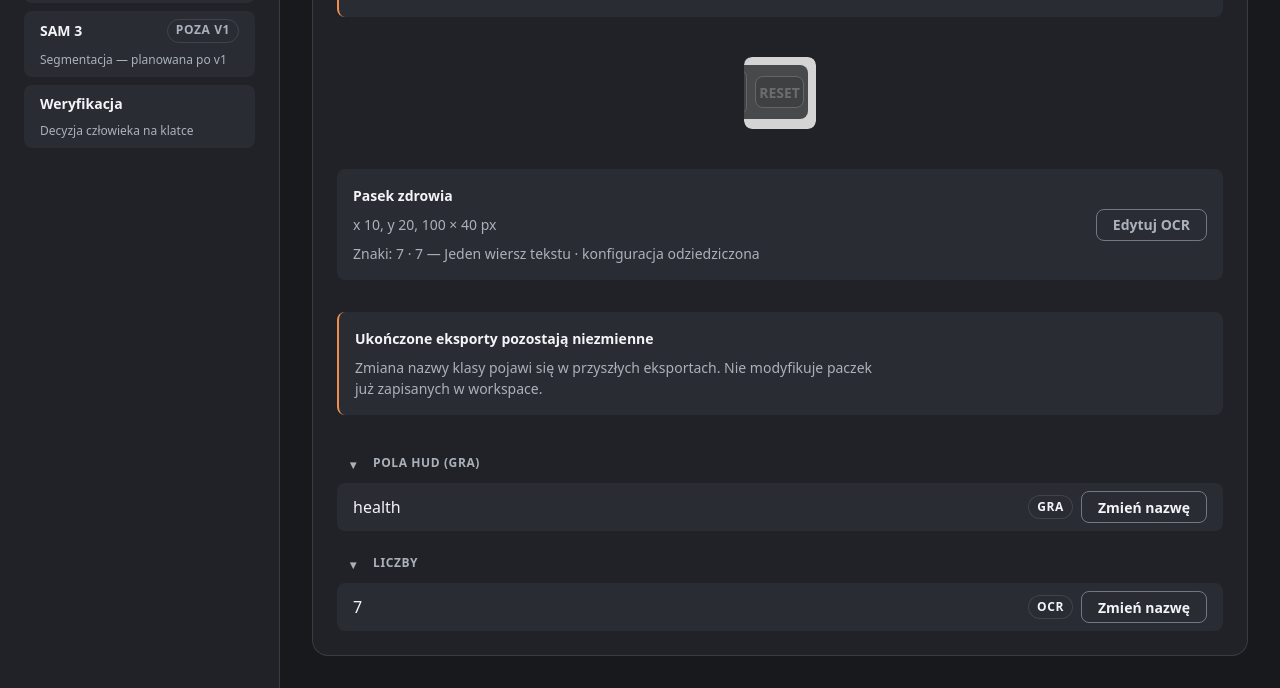
profile collection and explicit selection › keeps the editor open and explains a backend category-name conflict
(page scrolled)
Click the button with aria-label "Zmień nazwę klasy 7" at (1144, 607), box [1081, 591, 1207, 623]
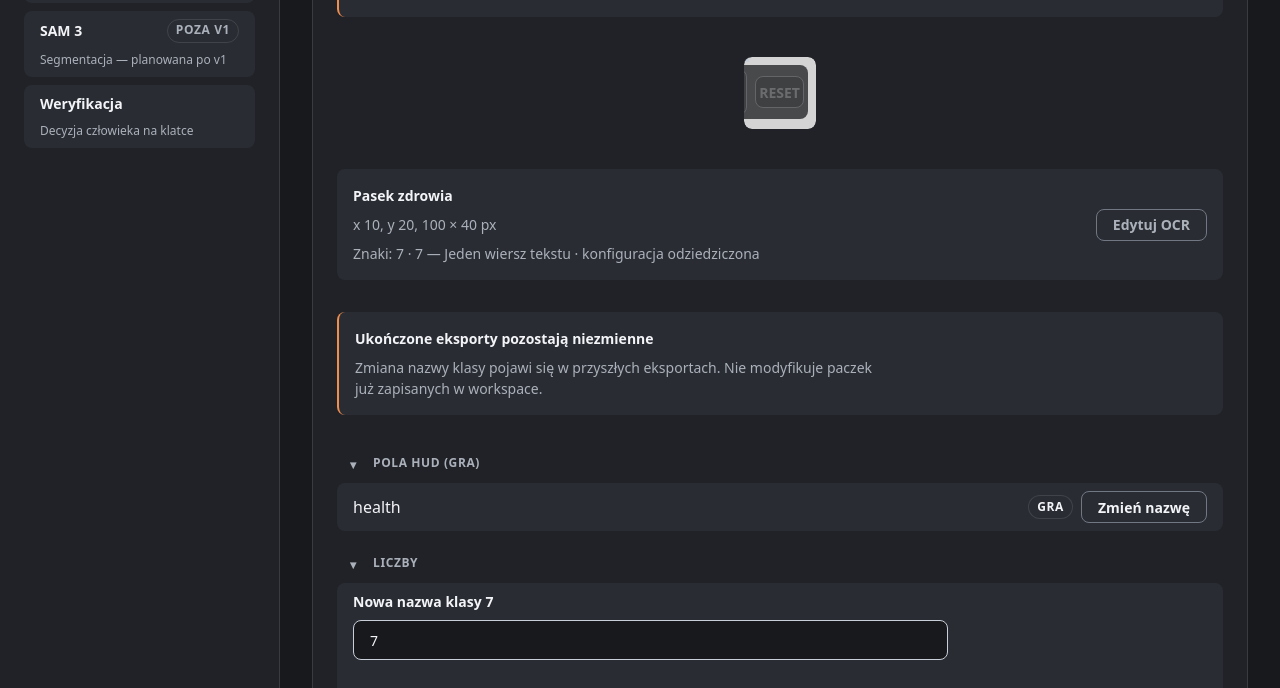
Replace the text in the field labelled "Nowa nazwa klasy 7" with "HEALTH" at (650, 640), box [353, 620, 948, 660]
(page scrolled)
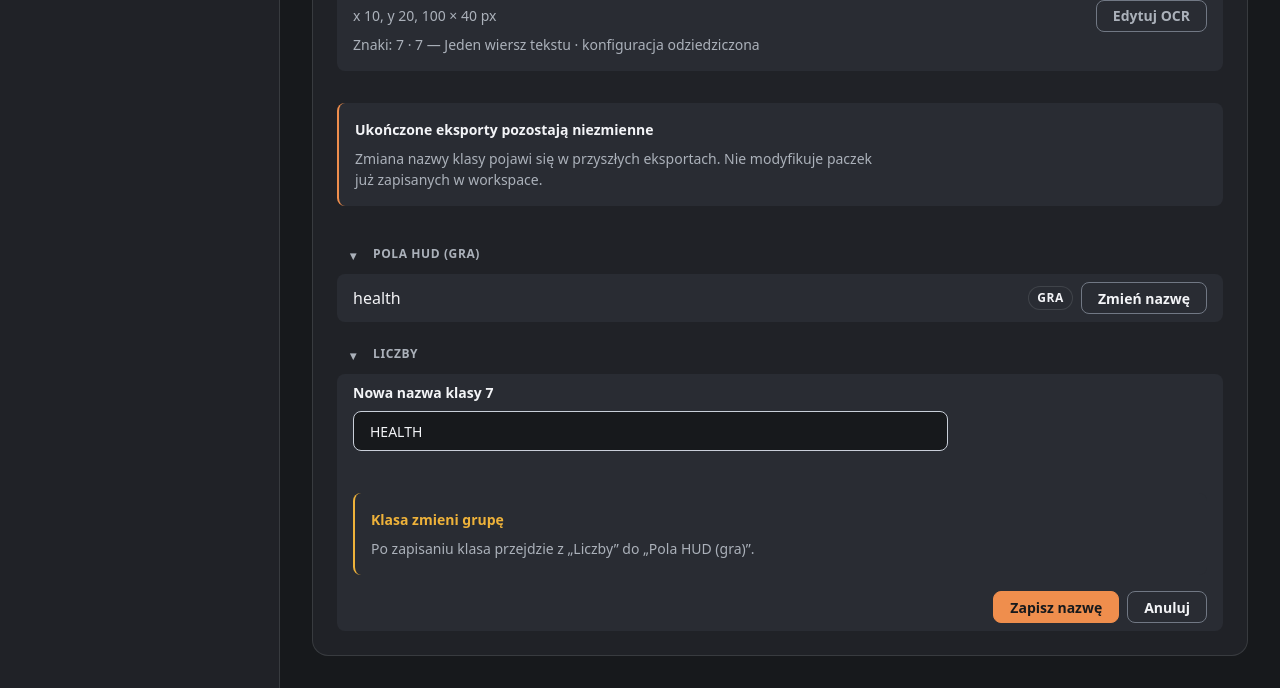
Click the button "Zapisz nazwę" at (1056, 607), box [993, 591, 1119, 623]
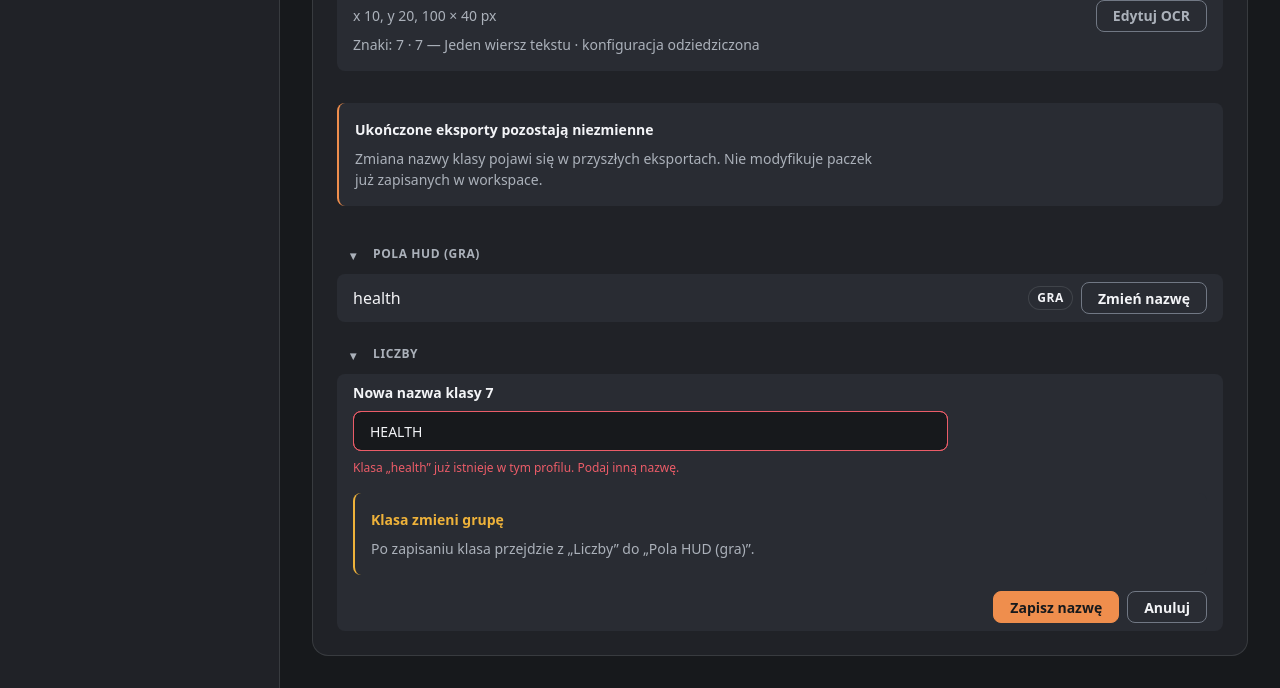
Result: the text "Klasa „health” już istnieje w tym profilu. Podaj inną nazwę." is shown at [353, 459, 679, 476]
